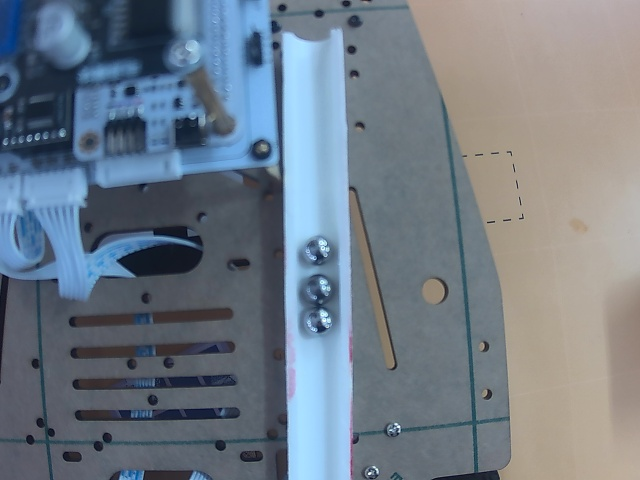steelball: (303, 274, 334, 305), (303, 236, 332, 264), (303, 306, 333, 333)
